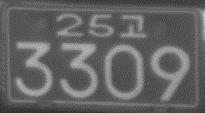0: (104, 43, 144, 100)
2: (56, 12, 84, 37)
3: (59, 41, 99, 98), (14, 40, 53, 98)
5: (87, 13, 113, 38)
9: (150, 43, 191, 102)
고: (120, 13, 146, 38)
